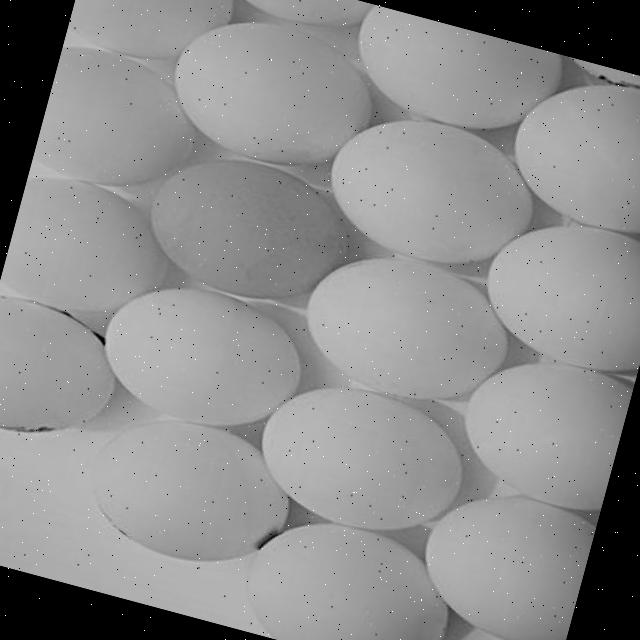ping-pong-ball: (235, 358, 481, 551), (308, 94, 552, 286), (130, 134, 363, 322), (153, 0, 389, 183), (287, 233, 520, 415), (72, 400, 306, 581), (84, 264, 316, 446), (225, 496, 468, 640), (396, 468, 599, 640), (440, 338, 636, 512), (460, 195, 640, 377), (329, 0, 557, 142), (30, 36, 214, 206), (0, 167, 177, 329), (492, 55, 640, 244), (0, 293, 129, 456), (65, 0, 236, 73)
